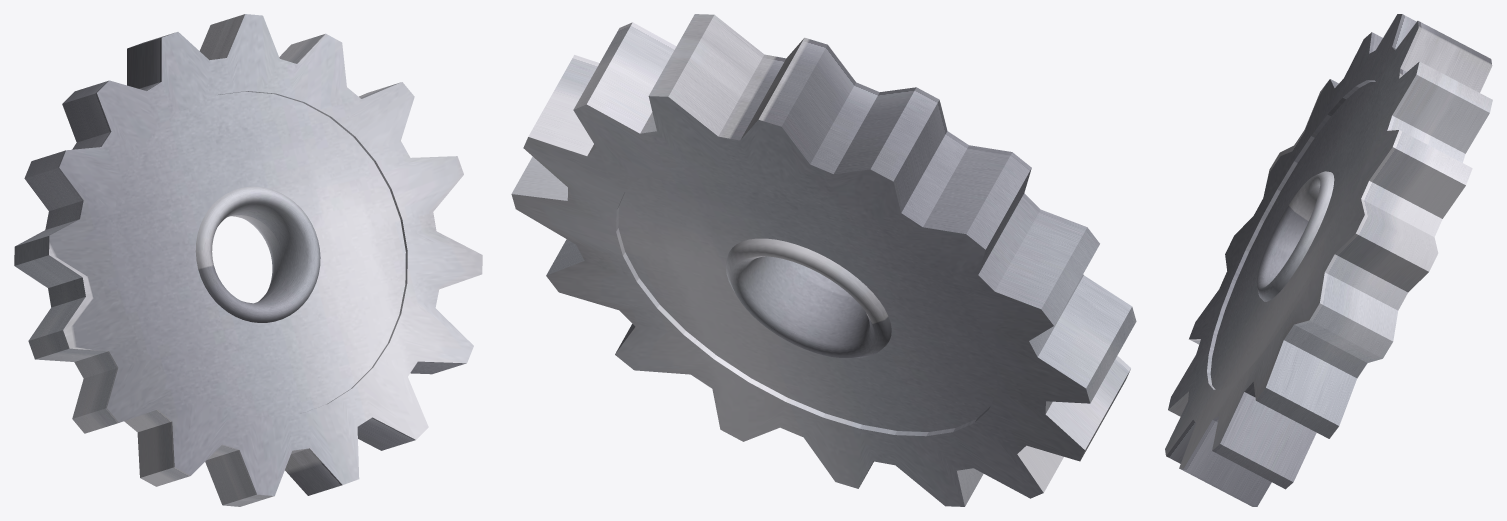
Rendered from Gear.fbx.
3 views of the same model, side by side, from view 1: azimuth 30°, elevation 25°; view 2: azimuth 150°, elevation 25°; view 3: azimuth 270°, elevation 25° (orthographic). The views are drawn at different scales.
Visible parts, largest first — view 1: 円柱, トーラス; view 2: 円柱, トーラス; view 3: 円柱, トーラス.
Part boxes in pixels (box(x1,y1,x2,y2)): 円柱: box(14, 14, 482, 506); トーラス: box(195, 186, 320, 322); 円柱: box(511, 14, 1136, 506); トーラス: box(726, 238, 891, 357); 円柱: box(1165, 14, 1492, 506); トーラス: box(1257, 171, 1334, 301).
Size of the model in its own units: 2.39 by 2.28 by 1.55.
Materials: 2 (2 with a texture image).
